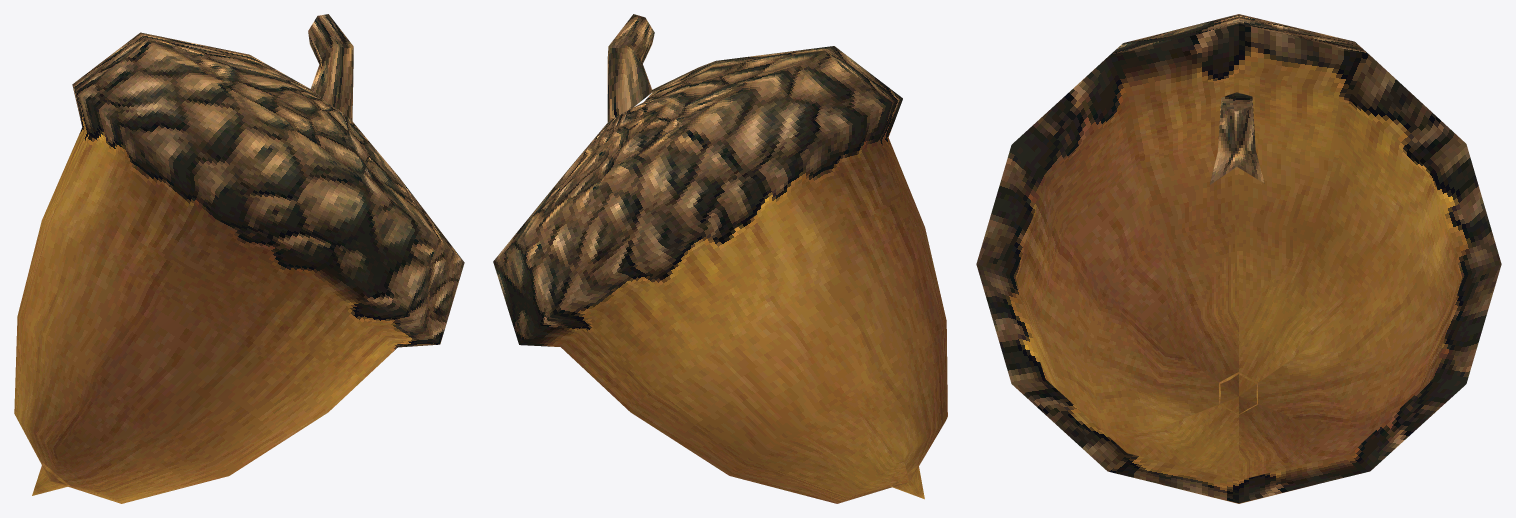
The model's file is ps2_save-icons_iceage2themeltdown.glb.
3 views of the same model, side by side, from view 1: azimuth 30°, elevation 25°; view 2: azimuth 150°, elevation 25°; view 3: azimuth 270°, elevation 25° (orthographic). The views are drawn at different scales.
Visible parts, largest first — view 1: icon.ico; view 2: icon.ico; view 3: icon.ico.
Part boxes in pixels (x1,y1,x2,y2): icon.ico: [14, 14, 464, 503]; icon.ico: [493, 14, 947, 503]; icon.ico: [976, 14, 1501, 503].
Bounding box in the file's own units: 5 × 5 × 4.83.
Materials: 1 (1 with a texture image).
